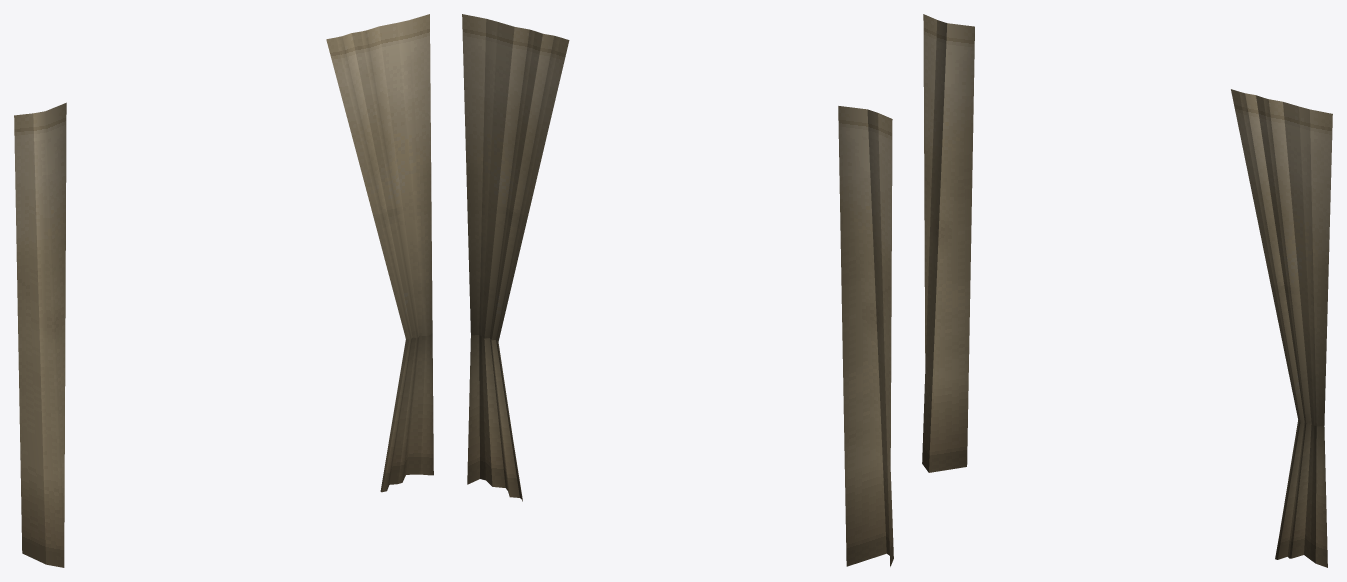
The model's file is prop_curtain-open-2.glb.
3 views of the same model, side by side, from view 1: azimuth 30°, elevation 25°; view 2: azimuth 150°, elevation 25°; view 3: azimuth 330°, elevation 25° (orthographic). The views are drawn at different scales.
Visible parts, largest first — view 1: prop_curtain-open-2; view 2: prop_curtain-open-2; view 3: prop_curtain-open-2.
Boxes of the visible parts, bbox=[...] form: prop_curtain-open-2: bbox=[14, 14, 433, 567]; prop_curtain-open-2: bbox=[462, 14, 893, 566]; prop_curtain-open-2: bbox=[922, 14, 1332, 567].
Bounding box in the file's own units: 1.71 × 1.82 × 0.1591.
1 material, 1 textured.
